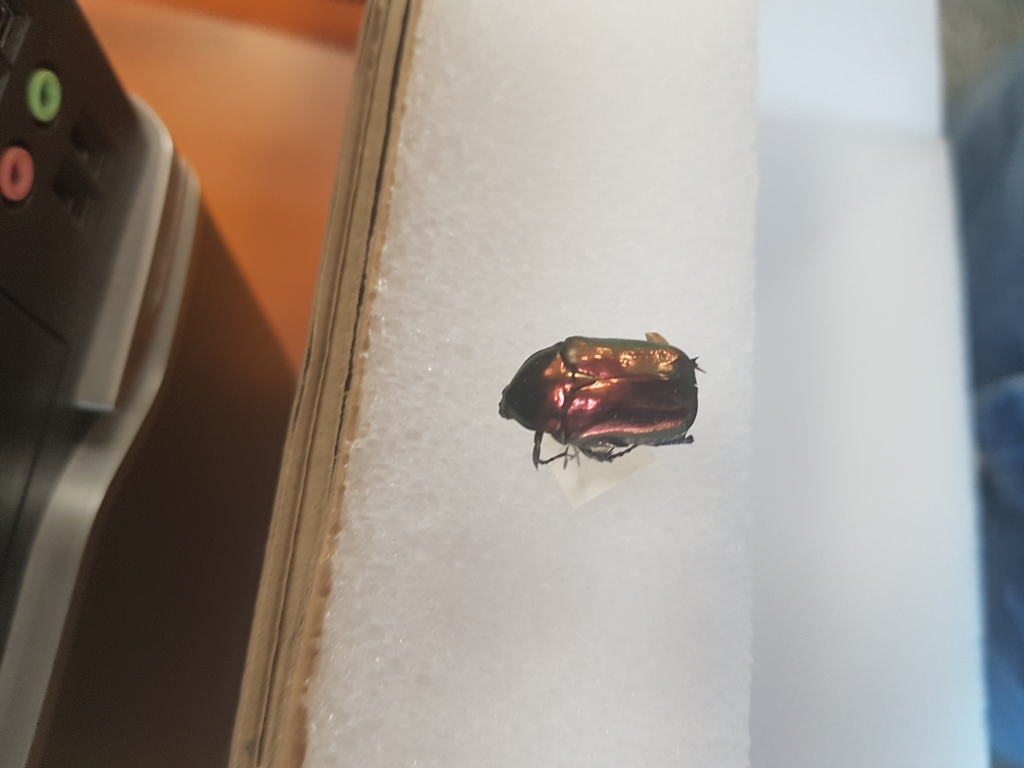Protaetia_cuprea_ignicollis: (493, 325, 714, 484)
